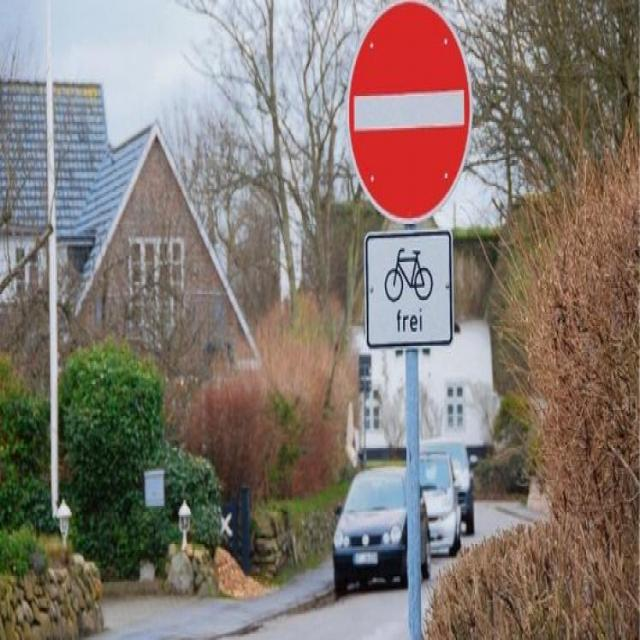no entry: (345, 0, 476, 231)
